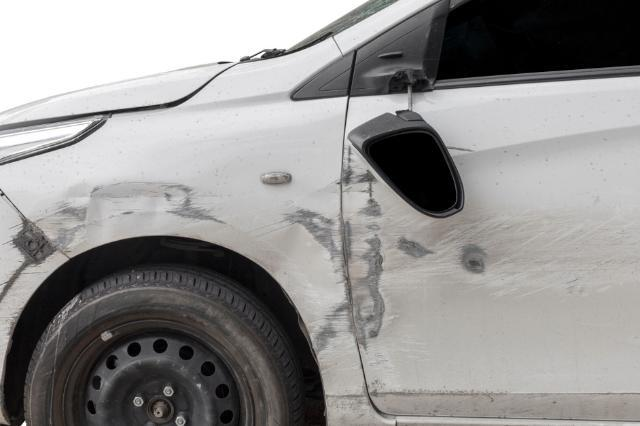Door: (344, 89, 545, 409)
Fender: (0, 102, 358, 382)
